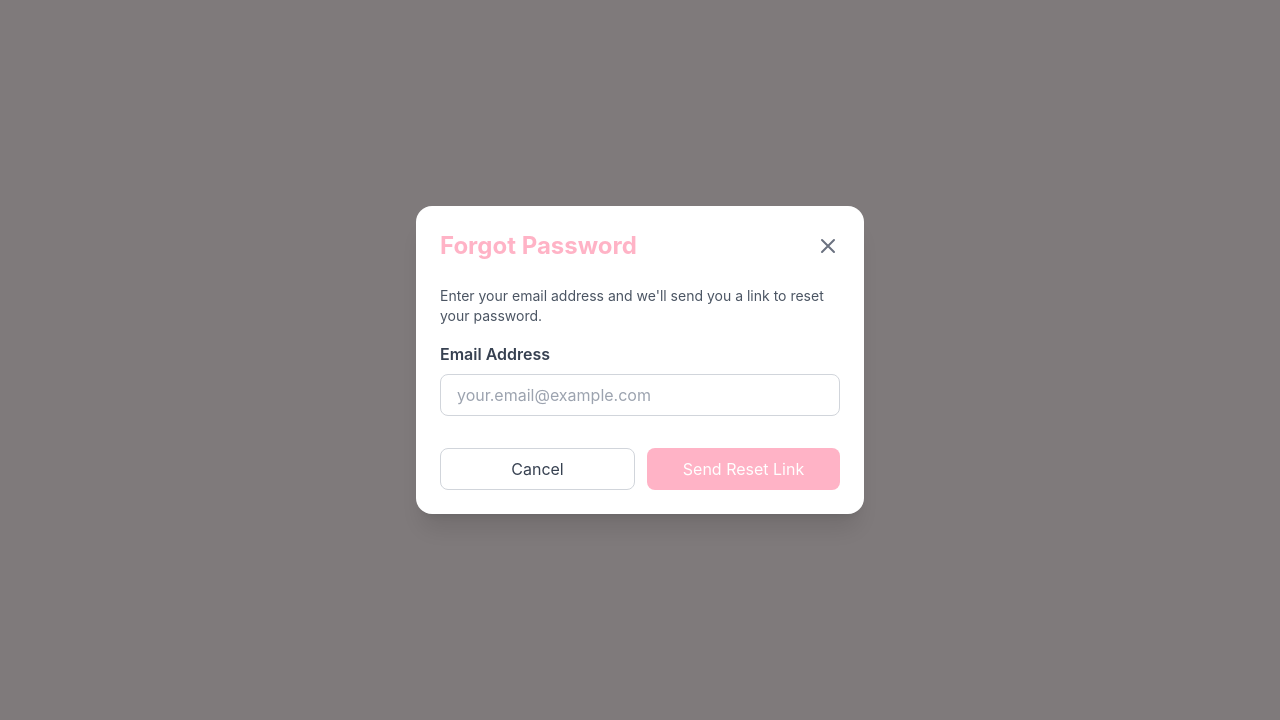
Test: ForgotPasswordModal › Error Handling › displays API error message
The width and height of the screenshot is (1280, 720).
Type "unknown@example.com" into the field with placeholder "your.email@example.com" at point(640, 395), box [440,374,840,416]
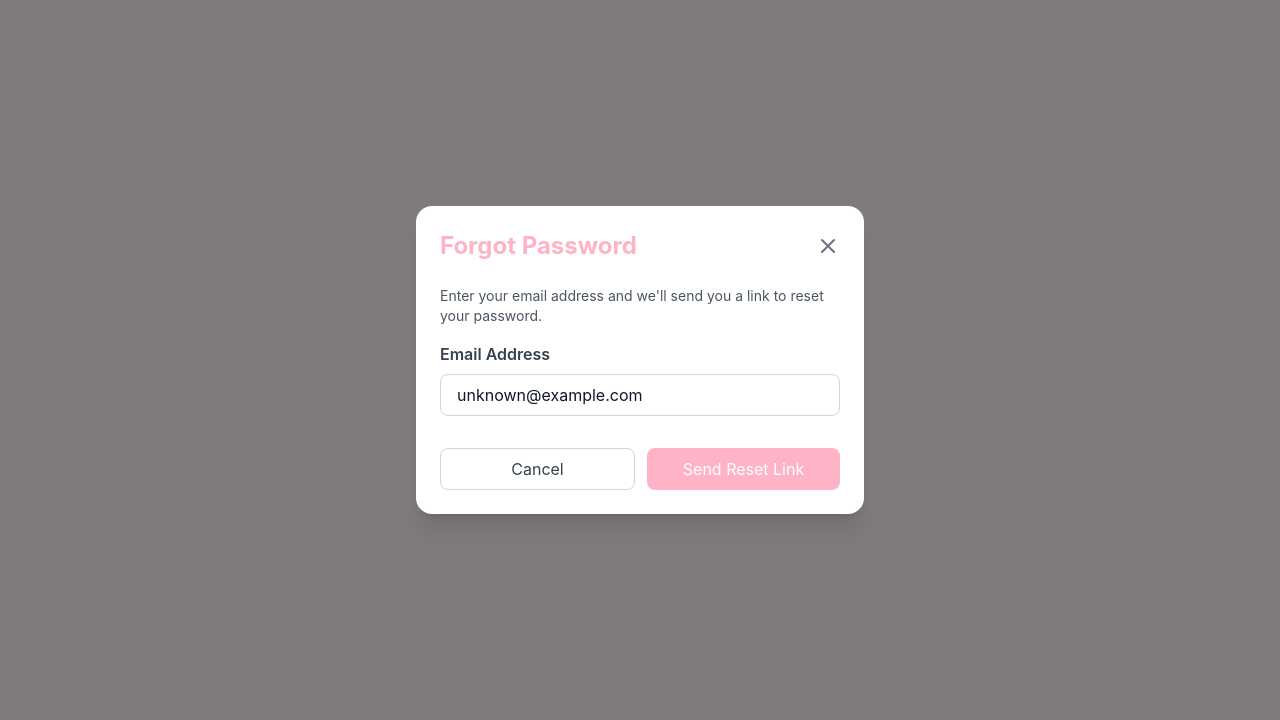
Click the button "Send Reset Link" at point(744, 469), box [647,448,840,490]
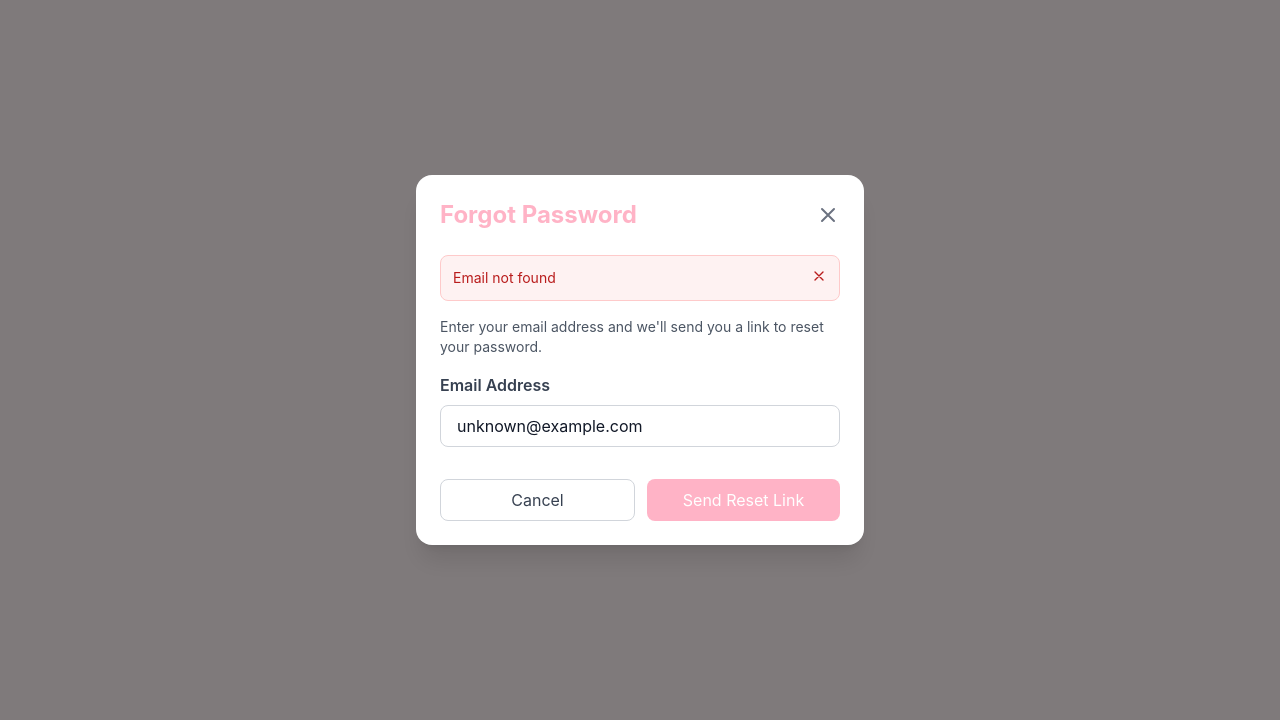
Now the text "Email not found" is shown, box [453,268,556,288]
